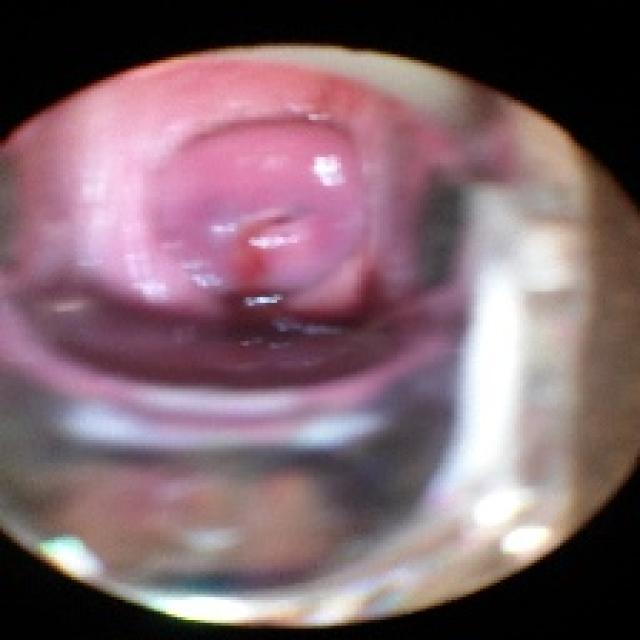type-2: (1, 76, 567, 590)
